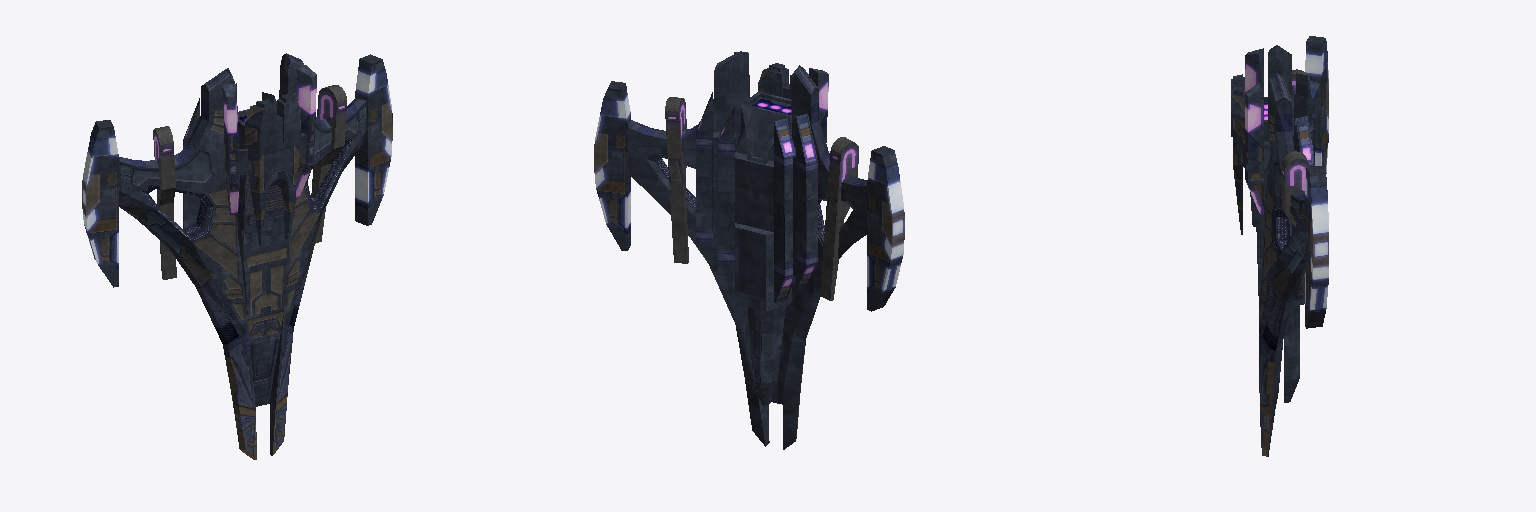
3 renders of one model, left to right at view 1: azimuth 30°, elevation 25°; view 2: azimuth 150°, elevation 25°; view 3: azimuth 270°, elevation 25°, orthographic.
Parts seen in each view (by area): view 1: 0_jb1; view 2: 0_jb1; view 3: 0_jb1.
Boxes of the visible parts, x1=… form: 0_jb1: x1=82, y1=53, x2=392, y2=459; 0_jb1: x1=594, y1=51, x2=904, y2=449; 0_jb1: x1=1231, y1=36, x2=1328, y2=456.
Size of the model in its own units: 9.32 by 11.44 by 2.6.
1 materials, 1 textured.